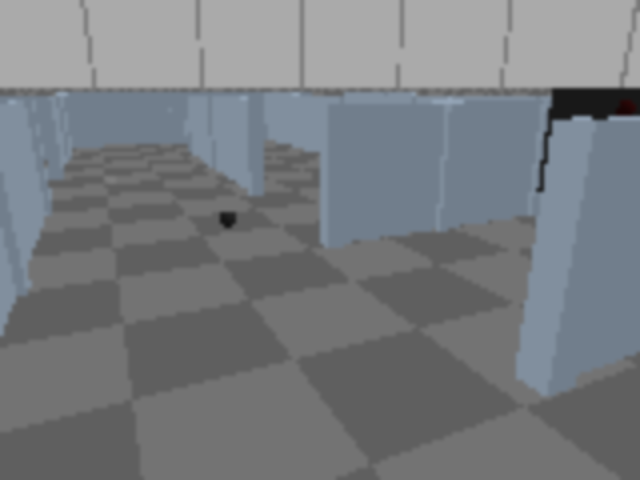puck: (214, 207, 240, 231)
